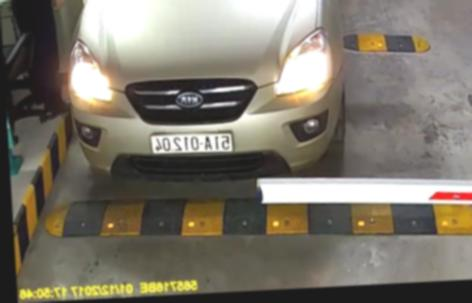License_Plate: (147, 125, 237, 160)
